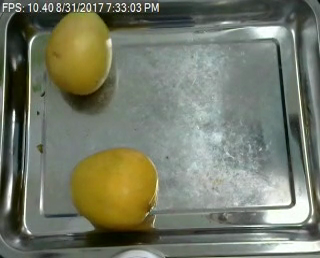Mango: (70, 147, 157, 227), (45, 9, 113, 95)
